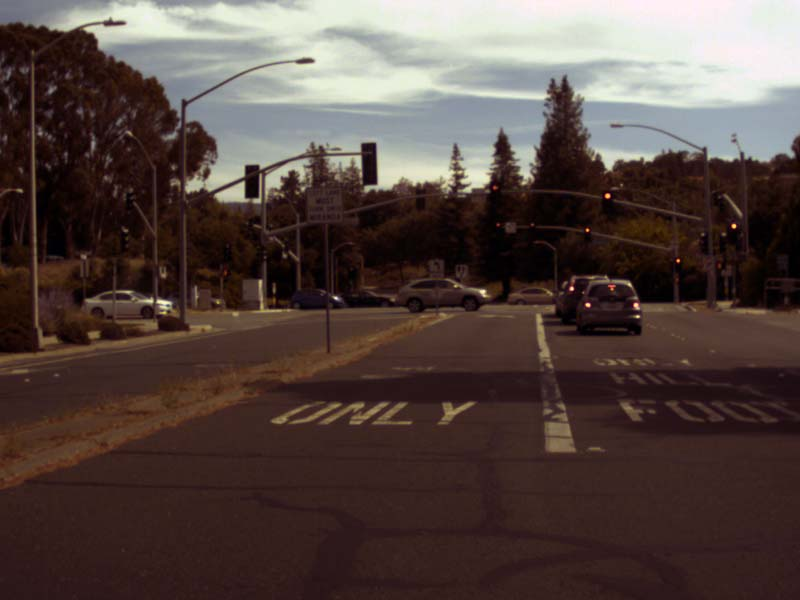Red: (601, 190, 614, 214), (673, 254, 685, 273), (718, 229, 727, 252), (728, 222, 737, 242), (699, 231, 707, 253), (490, 181, 500, 197), (583, 225, 592, 241), (494, 219, 501, 234), (529, 220, 535, 233)
Yellow: (715, 260, 724, 270)
